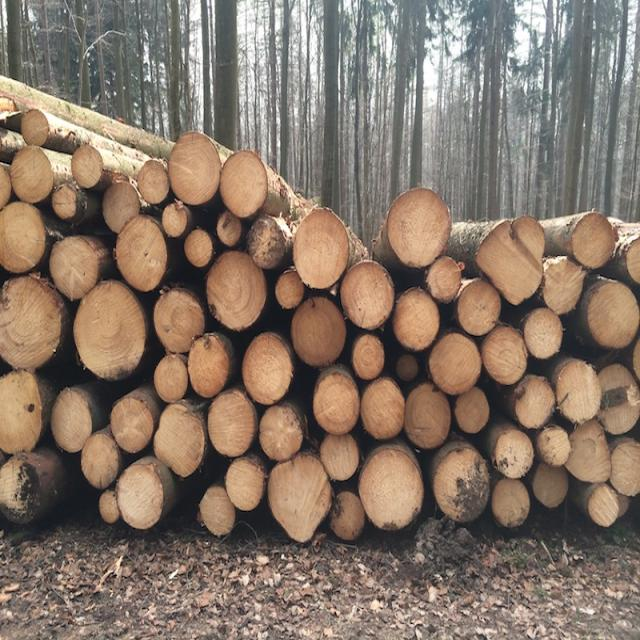wood-log: (72, 280, 146, 378), (475, 220, 546, 305), (0, 278, 62, 374), (268, 452, 332, 542), (360, 448, 425, 530), (386, 189, 451, 268), (205, 250, 267, 331), (432, 443, 492, 523), (292, 210, 348, 292), (114, 216, 168, 293), (154, 400, 208, 476), (289, 297, 346, 367), (171, 134, 226, 206), (49, 238, 108, 302), (240, 332, 292, 404), (584, 280, 638, 349), (0, 368, 43, 454), (338, 262, 394, 328), (152, 290, 204, 356), (205, 392, 256, 459), (430, 330, 484, 393), (118, 458, 166, 528), (404, 381, 452, 450), (219, 151, 267, 219), (554, 360, 602, 426), (315, 368, 362, 435), (0, 201, 44, 272), (188, 334, 235, 398), (51, 387, 94, 454), (392, 290, 440, 350), (359, 377, 404, 441), (112, 392, 159, 453), (564, 422, 608, 486), (482, 324, 528, 384), (0, 459, 41, 524), (260, 402, 305, 460), (571, 214, 617, 269), (544, 258, 588, 315), (81, 430, 122, 490), (510, 376, 554, 431), (458, 281, 502, 335), (10, 148, 54, 202), (597, 359, 640, 413), (247, 214, 291, 266), (492, 424, 533, 476), (226, 455, 266, 508), (600, 382, 640, 435), (522, 310, 562, 360), (199, 485, 237, 537), (320, 432, 362, 479), (490, 477, 530, 526), (102, 183, 141, 233), (330, 491, 367, 541), (529, 462, 568, 508), (610, 437, 640, 496), (454, 388, 489, 435), (155, 354, 190, 401), (429, 258, 466, 302), (535, 426, 571, 468), (352, 334, 384, 380), (70, 143, 103, 186), (587, 484, 620, 526), (137, 165, 170, 206), (275, 269, 307, 309), (21, 109, 50, 146), (52, 182, 80, 220), (184, 230, 212, 266), (163, 202, 190, 236), (217, 214, 240, 248), (396, 352, 421, 380), (626, 236, 640, 285), (99, 491, 119, 524), (0, 163, 12, 206), (0, 14, 7, 74), (0, 132, 15, 160), (632, 337, 640, 383)
